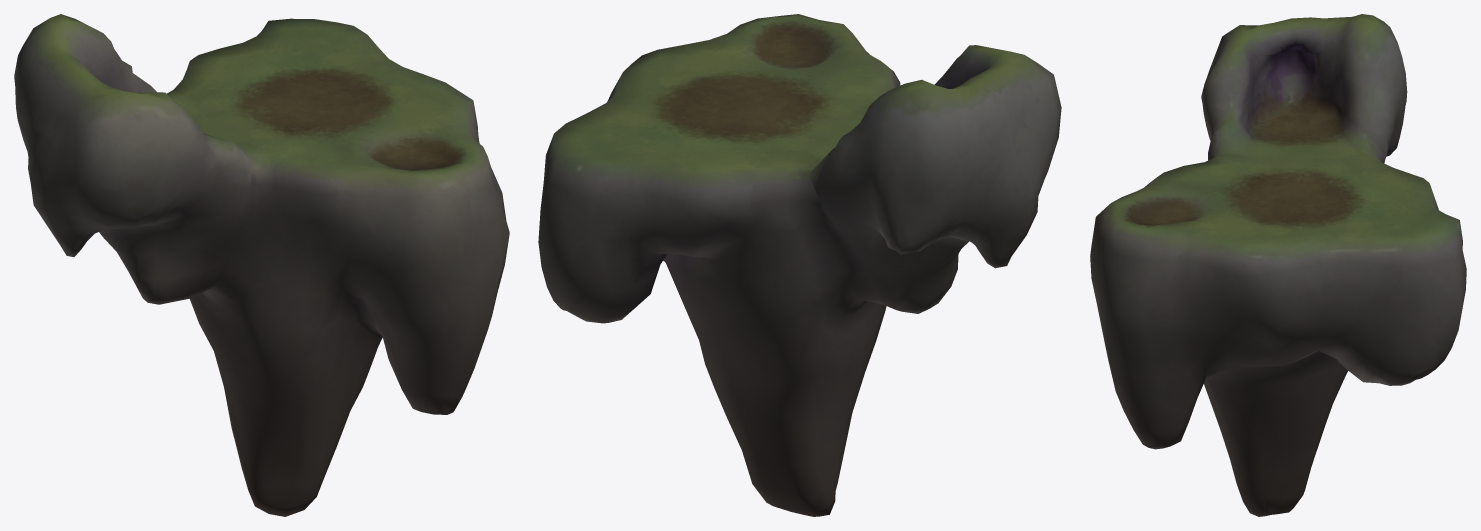
Rendered from Island_pondHigher.fbx.
The picture shows the model from 3 angles, left to right: view 1: azimuth 30°, elevation 25°; view 2: azimuth 150°, elevation 25°; view 3: azimuth 270°, elevation 25°; orthographic projection. The views are drawn at different scales.
Visible parts, largest first — view 1: Main Island; view 2: Main Island; view 3: Main Island.
Boxes of the visible parts, x1,y1,x2,y2 form: Main Island: (14, 14, 509, 516); Main Island: (538, 14, 1061, 516); Main Island: (1090, 14, 1466, 516).
Size of the model in its own units: 14602 by 16611 by 13326.
